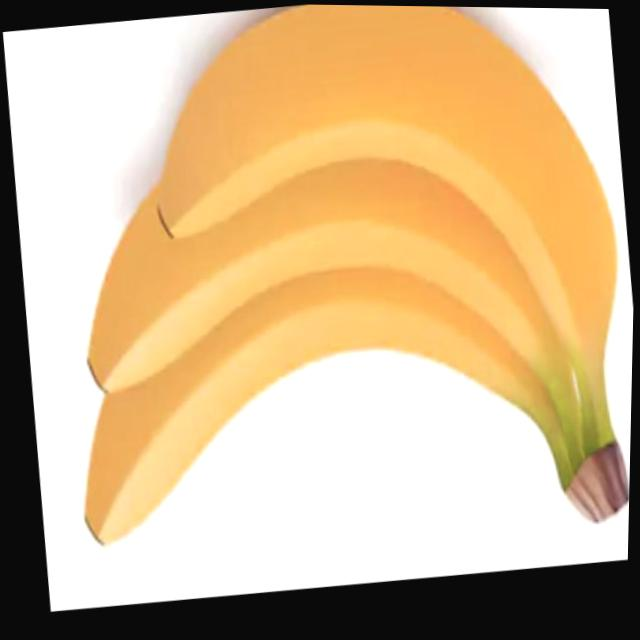Banana: (33, 1, 640, 576)
